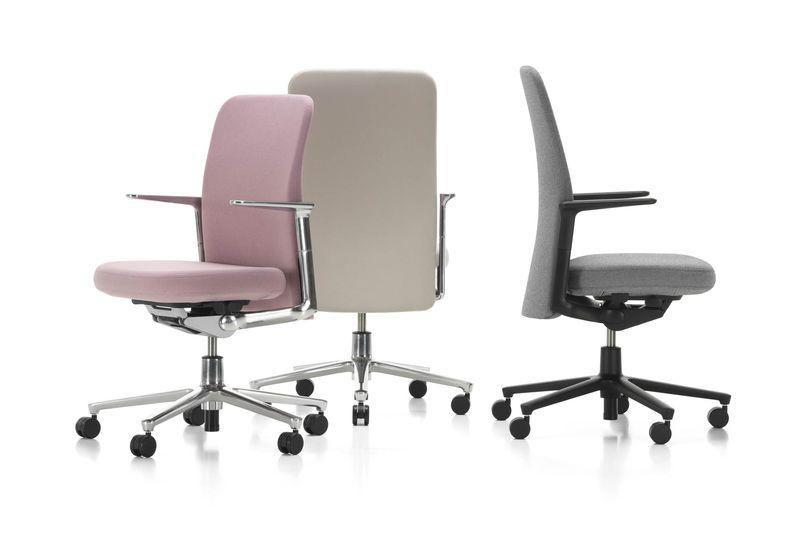chair: (479, 57, 772, 482), (77, 96, 366, 486), (272, 46, 498, 446)
